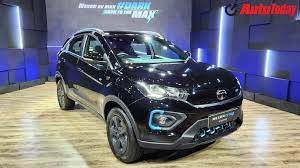Tata Nexon: (52, 27, 246, 165)
